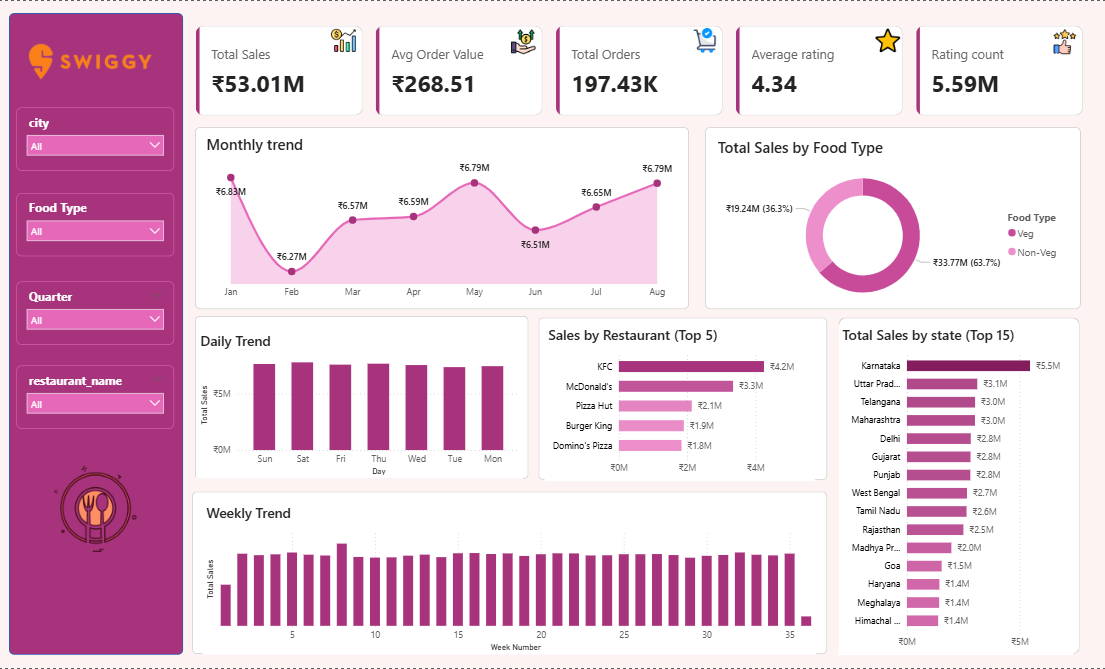

This screenshot's page, from the dashboard's own definition file:
{"tool":"powerbi","page":{"name":"Page 1","canvas":[1500,900],"ordinal":0},"visuals":[{"type":"shape","box":[15.5,15.5,235,865.9],"z":0},{"type":"cardVisual","fields":{"Data":["fact_orders.Total Sales","fact_orders.Avg Order Value","fact_orders.Total Orders","Avg(fact_orders.rating)","Sum(fact_orders.rating_count)"]},"box":[250.2,15.5,1235.7,155],"z":1000},{"type":"image","box":[447.3,35.4,39.9,33.2],"z":2000},{"type":"image","box":[691,37.6,39.9,33.2],"z":3000},{"type":"image","box":[1421.8,37.6,39.9,33.2],"z":4000},{"type":"image","box":[1182.6,35.4,39.9,33.2],"z":5000},{"type":"image","box":[934.6,35.4,39.9,33.2],"z":6000},{"type":"image","box":[2.2,0,248,170.5],"z":7000},{"type":"shape","box":[268,170.5,666.6,245.8],"z":8000},{"type":"areaChart","title":"Monthly trend","fields":{"Category":["dim_date.Month"],"Y":["fact_orders.Total Sales"]},"box":[276.8,179.4,651.1,230.3],"z":9000},{"type":"shape","box":[954.5,170.5,507.1,245.8],"z":10000},{"type":"donutChart","fields":{"Category":["dim_dish.Food Type"],"Y":["fact_orders.Total Sales"]},"box":[967.8,183.8,485,237],"z":11000},{"type":"shape","box":[268,425.2,450,220],"z":12000},{"type":"columnChart","title":"Daily Trend","fields":{"Category":["dim_date.Day"],"Y":["fact_orders.Total Sales"]},"box":[270.2,445.1,440.7,199.3],"z":13000},{"type":"shape","box":[730.8,427.4,389.8,219.2],"z":14000},{"type":"barChart","title":" Sales by Restaurant (Top 5)","fields":{"Category":["dim_restaurant.restaurant_name"],"Y":["fact_orders.Total Sales"]},"box":[739.7,436.3,365.4,210.4],"z":15000},{"type":"shape","box":[1136.1,427.4,325.5,454],"z":16000},{"type":"barChart","title":"Total Sales by state (Top 15)","fields":{"Category":["dim_location.state"],"Y":["fact_orders.Total Sales"]},"box":[1136.1,436.3,316.7,445.1],"z":17000},{"type":"shape","box":[263.5,662.2,857,219.2],"z":18000},{"type":"columnChart","title":"Weekly Trend","fields":{"Category":["dim_date.Week Number"],"Y":["fact_orders.Total Sales"]},"box":[276.8,677.7,828.3,203.7],"z":19000},{"type":"slicer","fields":{"Values":["dim_location.city"]},"box":[26.3,143.7,212.5,85],"z":20000},{"type":"slicer","fields":{"Values":["dim_date.Quarter"]},"box":[26.3,378.5,212.5,85],"z":21000},{"type":"slicer","fields":{"Values":["dim_dish.Food Type"]},"box":[26.3,259.1,212.5,85],"z":22000},{"type":"slicer","fields":{"Values":["dim_restaurant.restaurant_name"]},"box":[26.3,491.8,212.5,85],"z":23000},{"type":"image","box":[22.3,613.3,220.6,143.7],"z":24000}]}

Visuals, with their boxes in screenshot pixels (x1, y1, x2, y2), scaled from the page's 1500x900 canvas onto the 1105x669 screenshot:
shape: l=11, t=12, r=185, b=655
cardVisual - fact_orders.Total Sales x fact_orders.Avg Order Value: l=184, t=12, r=1095, b=127
image: l=330, t=26, r=359, b=51
image: l=509, t=28, r=538, b=53
image: l=1047, t=28, r=1077, b=53
image: l=871, t=26, r=901, b=51
image: l=688, t=26, r=718, b=51
image: l=2, t=0, r=184, b=127
shape: l=197, t=127, r=688, b=309
"Monthly trend" areaChart: l=204, t=133, r=684, b=305
shape: l=703, t=127, r=1077, b=309
donutChart - dim_dish.Food Type x fact_orders.Total Sales: l=713, t=137, r=1070, b=313
shape: l=197, t=316, r=529, b=480
"Daily Trend" columnChart: l=199, t=331, r=524, b=479
shape: l=538, t=318, r=826, b=481
" Sales by Restaurant (Top 5)" barChart: l=545, t=324, r=814, b=481
shape: l=837, t=318, r=1077, b=655
"Total Sales by state (Top 15)" barChart: l=837, t=324, r=1070, b=655
shape: l=194, t=492, r=825, b=655
"Weekly Trend" columnChart: l=204, t=504, r=814, b=655
slicer - dim_location.city: l=19, t=107, r=176, b=170
slicer - dim_date.Quarter: l=19, t=281, r=176, b=345
slicer - dim_dish.Food Type: l=19, t=193, r=176, b=256
slicer - dim_restaurant.restaurant_name: l=19, t=366, r=176, b=429
image: l=16, t=456, r=179, b=563
